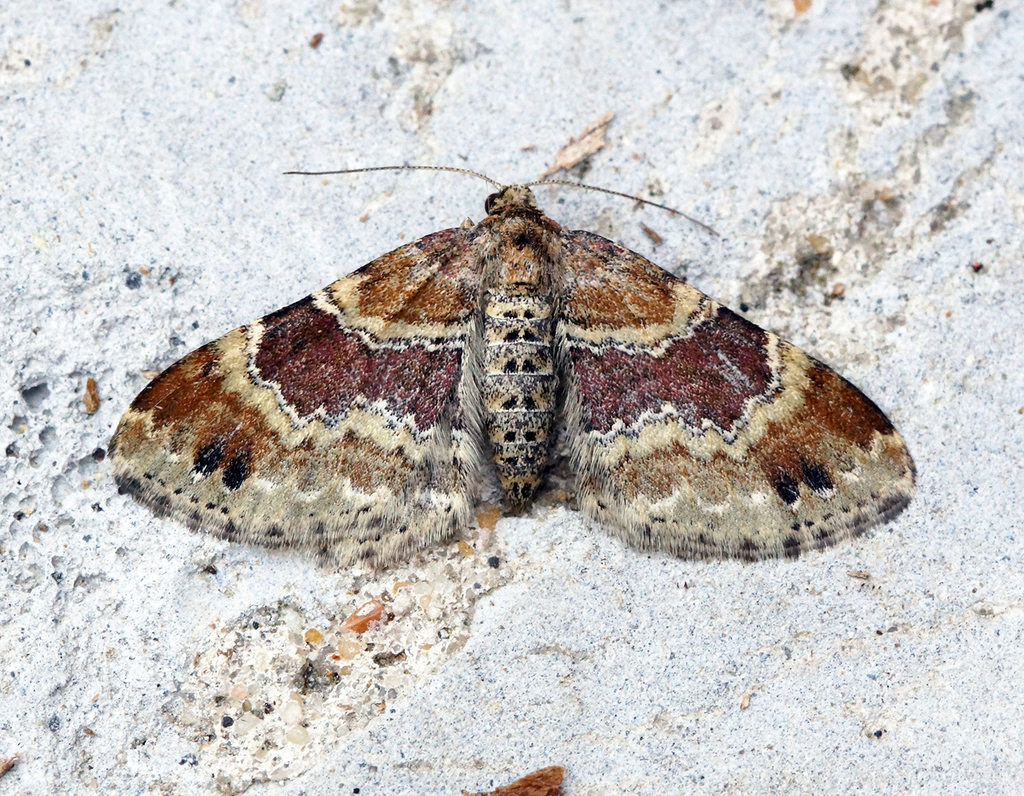Butterfly: (104, 145, 926, 590)
